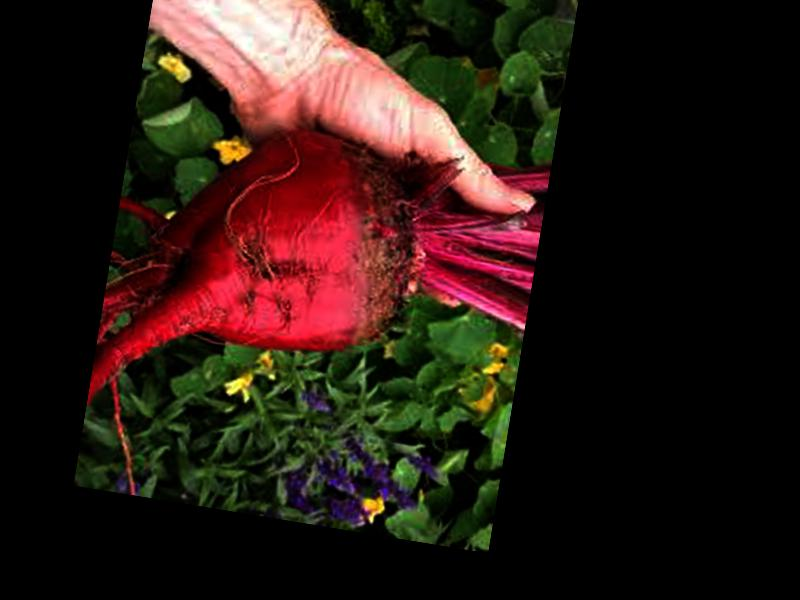Beet: (87, 101, 548, 464)
